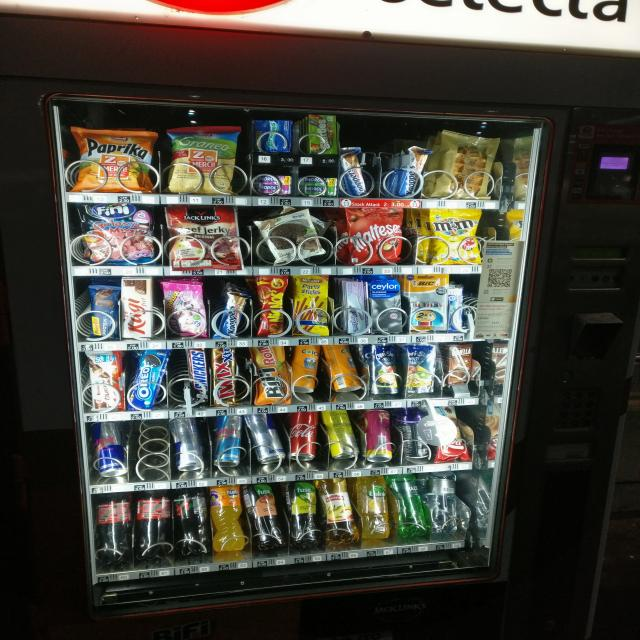7days_croissantschoko_packung_80_1_0000000000003: (432, 408, 468, 457)
airwaves_menthoneucalyptus_riegel_14_1_50173167: (264, 117, 291, 157)
berger_schoggitoertli____: (260, 212, 324, 258)
bifi_roll__50__4251097402635: (254, 344, 293, 404)
bueno___43__4008400320328: (86, 350, 127, 410)
c-swiss_dosenabisicetea__33__9120025930135: (321, 344, 363, 391), (293, 344, 321, 394)
caprisun_multivitamin__20__4000177605004: (366, 343, 407, 396), (404, 343, 439, 393)
coke__dose_33__54491472: (284, 410, 321, 459)
coke__flasche_50__54491472: (96, 492, 136, 567), (134, 487, 174, 562)
coke_zero_flasche_50__5449000131836: (172, 486, 213, 558)
comella_schokodrink__33__7613100037253: (446, 343, 472, 388)
fanta___50__40822938: (209, 483, 248, 551)
fini_galaxymix_packung_100_1_8410525150364: (84, 200, 166, 266)
fini_jellykisses_packung_80_1_8410525116704: (162, 280, 209, 337), (162, 279, 205, 334)
fuse_lemon__50__5449000235947: (284, 479, 325, 551)
fuse_lemon_dose_33__5449000235947: (320, 412, 355, 459)
fuse_peach__50__5449000236623: (246, 482, 289, 550)
jacklinks_beefjerkyorginal__25__4047751730219: (164, 204, 241, 271)
jlbrichard_gauffre__90__5410495002000: (438, 130, 492, 199)
kagi___50__7610046000259: (118, 277, 156, 338)
knoppers_riegel____4035800488808: (398, 148, 432, 202), (210, 291, 249, 338), (340, 149, 372, 196)
lorenz_nicnacs__40__4018077798818: (253, 272, 288, 332)
malburner_partysticks__40__7610200279682: (292, 273, 333, 336)
maltesers___100__5000159023061: (343, 206, 406, 262)
mnms_gelb__45__40111445: (428, 207, 484, 266)
oreo___66__84100733: (128, 348, 168, 410)
powerbar_proteinplusschoko__55__4029679520028: (86, 280, 122, 337)
ramseier_schorle__50__7610057012456: (320, 475, 361, 544)
redbull___33__90162909: (245, 412, 289, 465), (91, 422, 130, 478), (166, 416, 205, 470)
redbull_light__33__90162800: (212, 413, 248, 467)
skittles_sour_riegel_51_1_: (310, 111, 340, 151)
snickers___50__5000159461122: (187, 347, 212, 405)
stimorol_spearmint_riegel_14_1_: (291, 174, 338, 198)
stimorol_wildcherry_riegel_14_1_57060330: (252, 172, 292, 200)
tiki_himbeerbrause_dose_33_1_: (365, 409, 396, 463)
twix___50__5000159459228: (212, 345, 243, 404)
valser_classic__50__76404160: (387, 472, 429, 538)
valser_still__50__7610335002575: (425, 467, 465, 536)
volvic_pinapple__50__305764335648: (356, 472, 396, 543)
zweifel_graneochilli__100__7610095184009: (163, 126, 238, 192)
zweifel_paprika__90__7610095013002: (70, 128, 158, 195)
